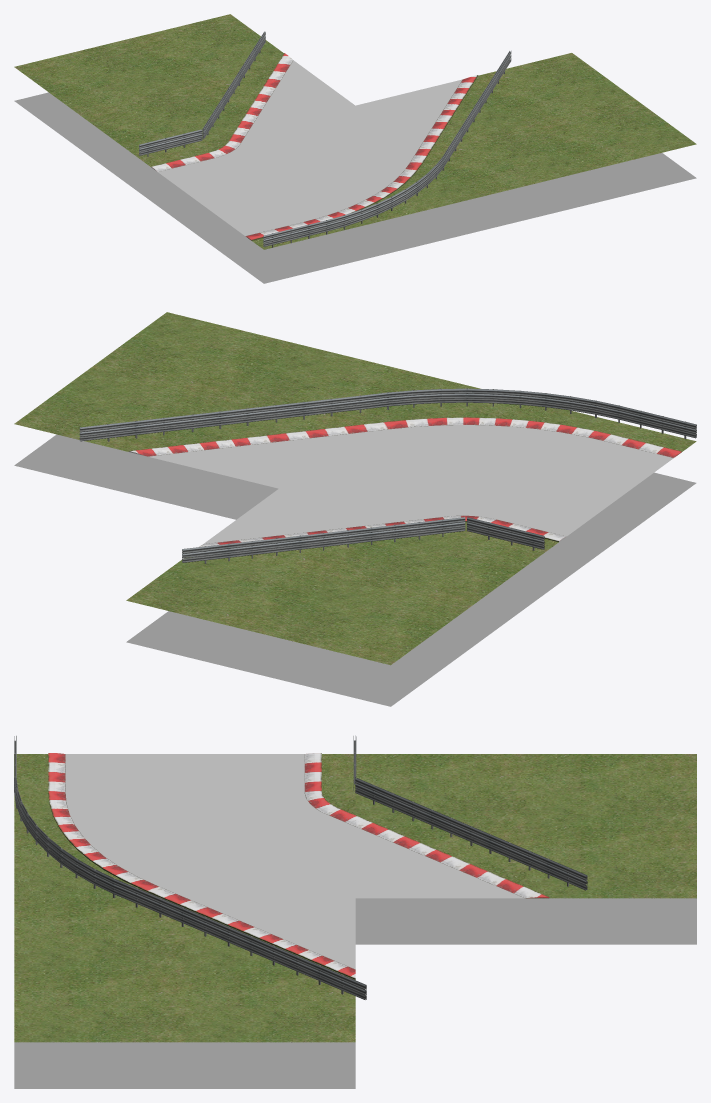
File: Track_Curve_To_45Degree_Flipped.fbx
The picture shows the model from 3 angles, top to bottom: view 1: azimuth 30°, elevation 25°; view 2: azimuth 150°, elevation 25°; view 3: azimuth 270°, elevation 25°; orthographic projection. The views are drawn at different scales.
Visible parts, largest first — view 1: Grass, Road, Snap_Plane_Invisible_01, Snap_Plane_Invisible_02, Snap_Plane_Invisible_03, Rail_B, Curb_B, Curb_A, Rail_A; view 2: Grass, Road, Snap_Plane_Invisible_03, Snap_Plane_Invisible_02, Rail_B, Snap_Plane_Invisible_01, Rail_A, Curb_B, Curb_A; view 3: Grass, Road, Snap_Plane_Invisible_02, Snap_Plane_Invisible_03, Rail_B, Curb_B, Rail_A, Curb_A.
Part boxes in pixels (x1,y1,x2,y2): Grass: [14, 14, 696, 249]; Road: [158, 60, 462, 235]; Snap_Plane_Invisible_01: [139, 184, 479, 283]; Snap_Plane_Invisible_02: [446, 153, 696, 230]; Snap_Plane_Invisible_03: [14, 92, 173, 192]; Rail_B: [263, 50, 511, 247]; Curb_B: [245, 75, 478, 240]; Curb_A: [151, 53, 293, 171]; Rail_A: [139, 31, 265, 156]; Grass: [14, 312, 696, 665]; Road: [148, 425, 673, 543]; Snap_Plane_Invisible_03: [126, 584, 543, 706]; Snap_Plane_Invisible_02: [14, 434, 278, 519]; Rail_B: [79, 388, 696, 441]; Snap_Plane_Invisible_01: [501, 472, 696, 594]; Rail_A: [182, 517, 544, 563]; Curb_B: [128, 417, 681, 457]; Curb_A: [198, 515, 566, 547]; Grass: [14, 754, 696, 1042]; Road: [65, 754, 524, 969]; Snap_Plane_Invisible_02: [14, 1042, 355, 1088]; Snap_Plane_Invisible_03: [355, 898, 696, 944]; Rail_B: [14, 735, 366, 999]; Curb_B: [48, 753, 355, 979]; Rail_A: [353, 735, 587, 890]; Curb_A: [304, 753, 549, 898].
Bounding box in the file's own units: 40 × 4.24 × 40.03.
